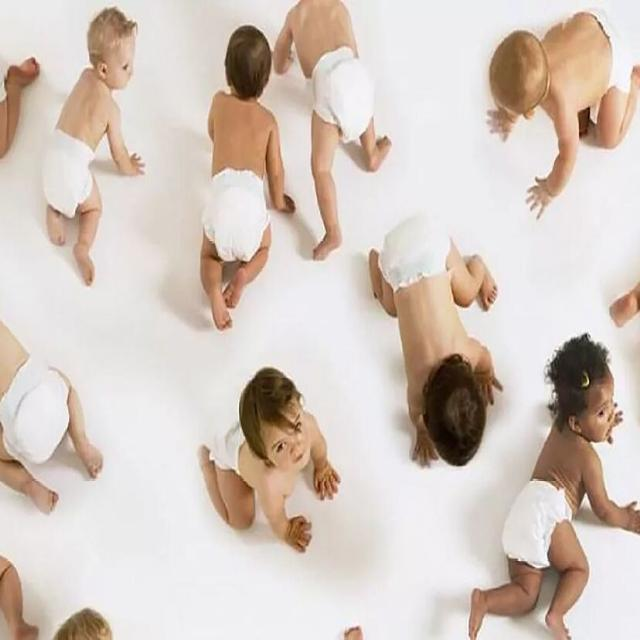child: (469, 330, 640, 640), (366, 208, 502, 470), (481, 4, 640, 222), (198, 25, 299, 332), (274, 2, 391, 263), (189, 362, 346, 556), (46, 5, 148, 283), (0, 314, 107, 509)
